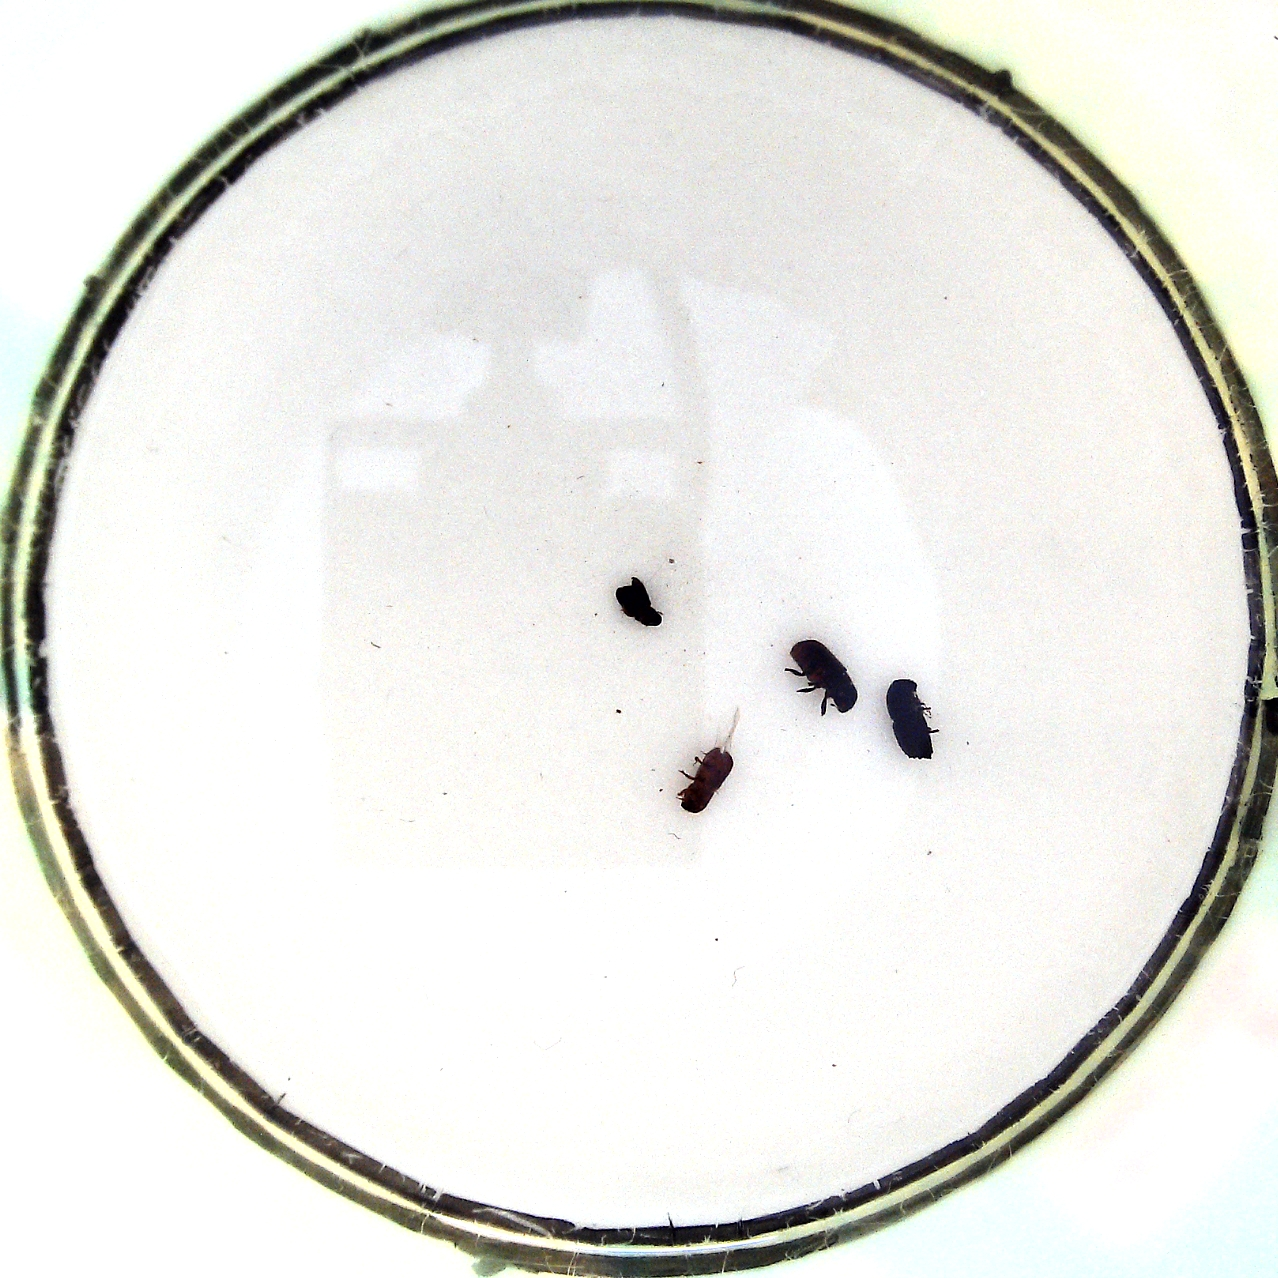Linnaeus: (884, 674, 941, 764)
acuminatus: (674, 740, 738, 817)
armandi: (784, 635, 863, 717)
coleoptera: (612, 576, 667, 627)
